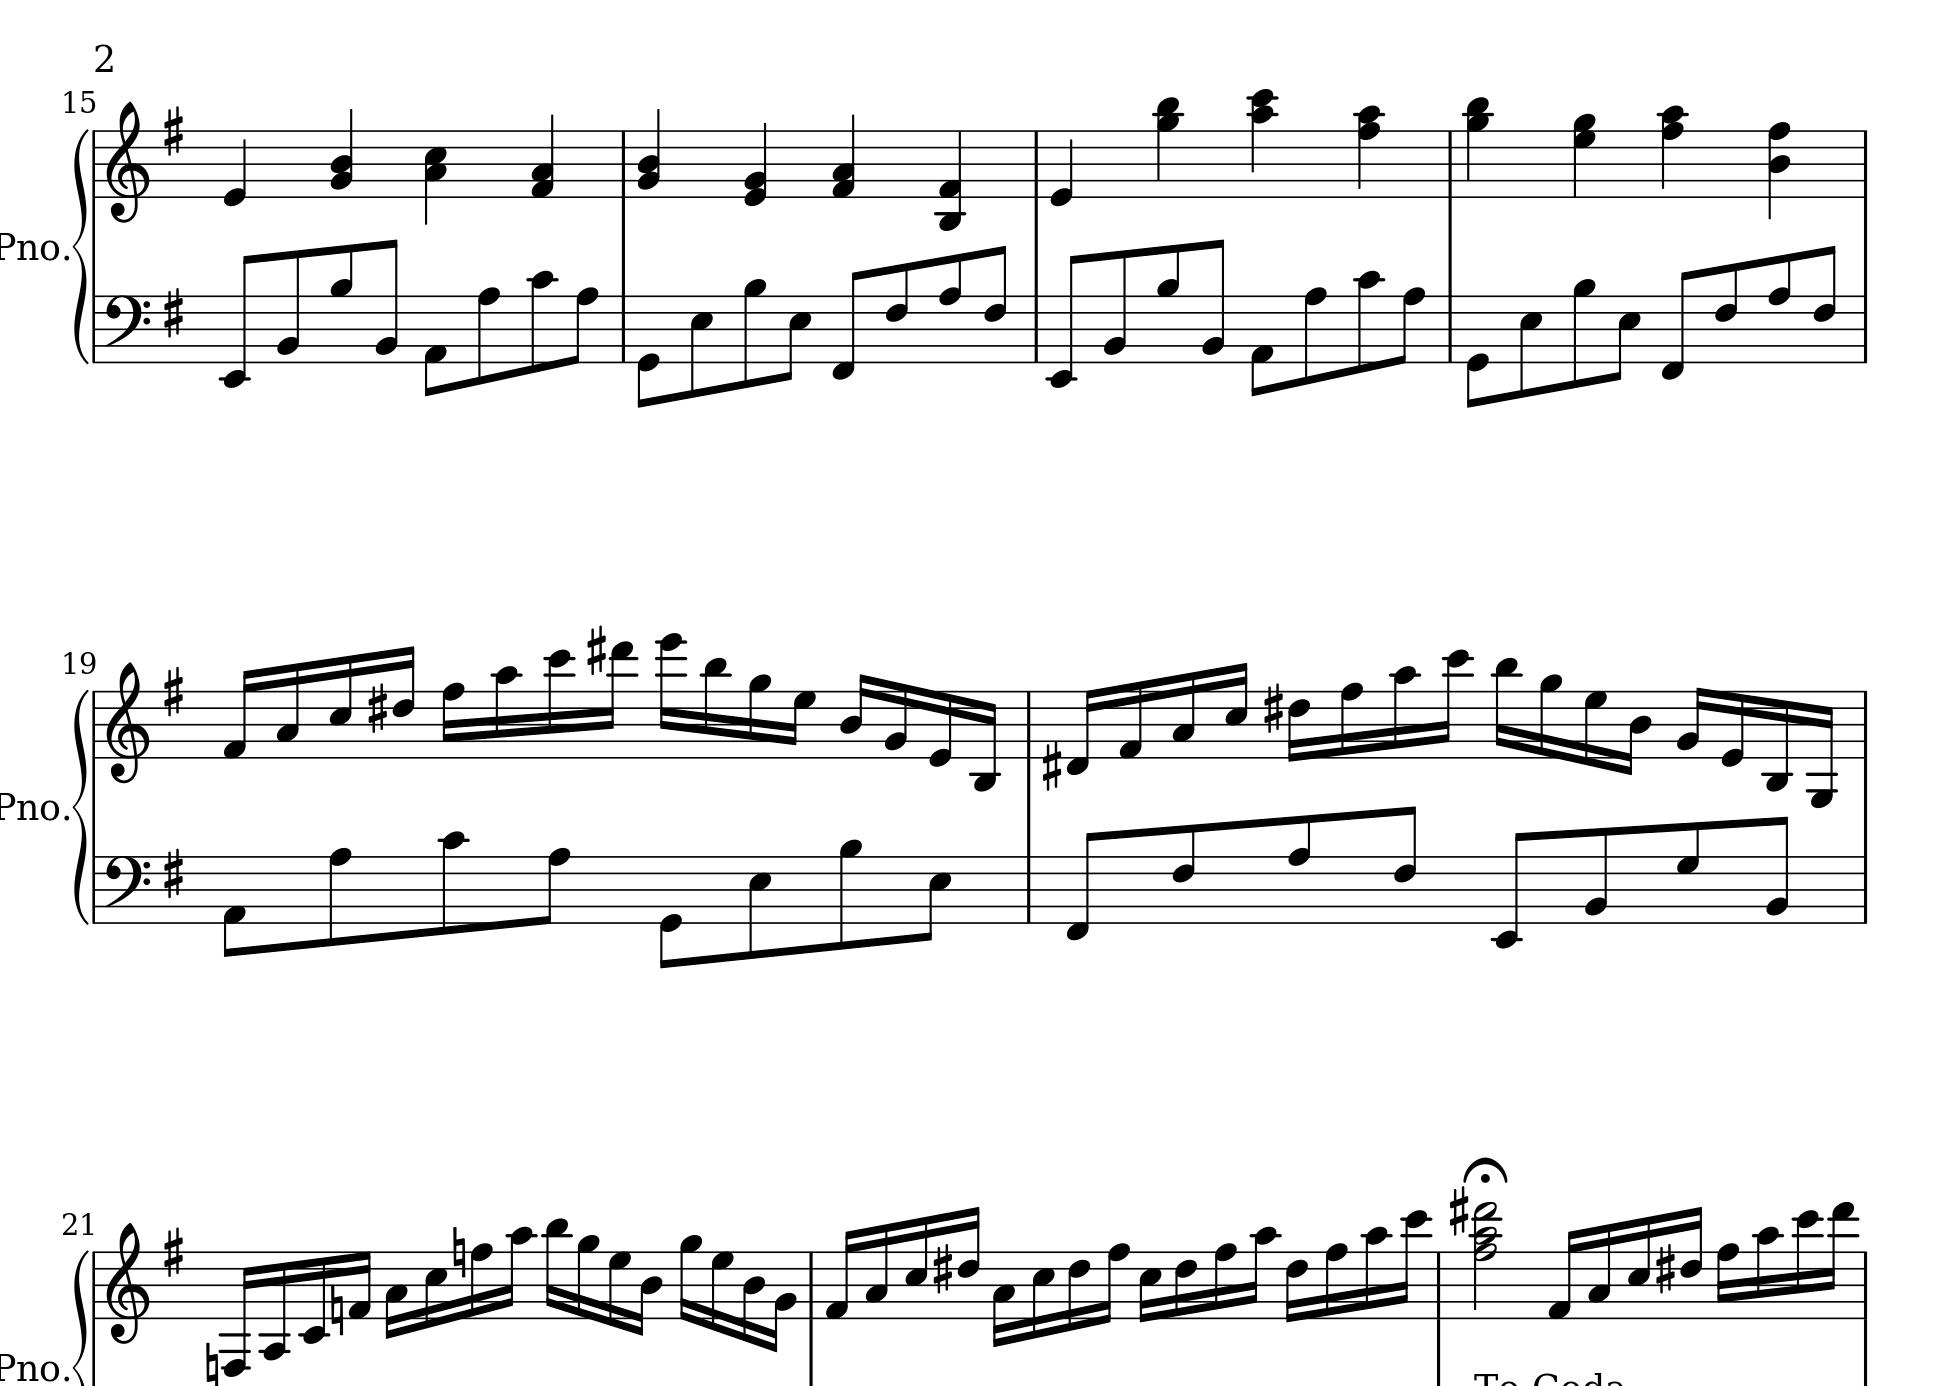1: (61, 648, 76, 676), (79, 1209, 94, 1237), (61, 88, 76, 115)
16_-1: (1066, 687, 1099, 777)
16_-2: (300, 1248, 327, 1347)
16_-3: (1807, 690, 1837, 808), (1764, 688, 1794, 793), (970, 688, 999, 793)
16_-4: (220, 1246, 256, 1377), (259, 1248, 289, 1362)
16_0: (925, 688, 955, 769), (1719, 688, 1746, 768)
16_1: (220, 666, 256, 760), (1545, 1227, 1581, 1321), (823, 1228, 856, 1320), (1117, 679, 1144, 760), (346, 1248, 373, 1321)
16_10: (501, 1225, 535, 1321), (1246, 1225, 1281, 1321), (490, 664, 520, 760), (1390, 664, 1420, 760), (1755, 1224, 1782, 1321), (1363, 1224, 1389, 1321)
16_11: (1491, 655, 1521, 760), (543, 1215, 570, 1321), (700, 655, 727, 760)
16_12: (1435, 648, 1473, 760), (1396, 1209, 1429, 1320), (544, 646, 574, 760), (1794, 1207, 1821, 1321)
16_13: (601, 637, 637, 760), (1824, 1201, 1857, 1318)
16_14: (655, 631, 685, 760)
16_2: (768, 1249, 796, 1351), (1675, 684, 1707, 759), (883, 679, 909, 759)
16_3: (274, 660, 301, 759), (862, 1222, 889, 1318), (1587, 1221, 1612, 1321), (1170, 670, 1197, 759), (991, 1249, 1015, 1348), (382, 1249, 408, 1339)
16_4: (838, 672, 870, 759), (1623, 688, 1653, 775), (634, 1249, 663, 1336), (741, 1249, 766, 1345)
16_5: (328, 652, 354, 760), (903, 1213, 928, 1321), (1626, 1213, 1651, 1321), (1224, 660, 1251, 760), (1030, 1248, 1056, 1339), (423, 1249, 448, 1329), (1137, 1249, 1162, 1323)
16_6: (391, 643, 417, 760), (957, 1204, 982, 1321), (1680, 1206, 1704, 1320), (1066, 1248, 1092, 1330), (1284, 1249, 1309, 1323), (1287, 688, 1311, 763), (1173, 1249, 1198, 1320)
16_7: (784, 687, 817, 759), (1582, 688, 1608, 771), (709, 1248, 733, 1335), (606, 1249, 631, 1330)
16_8: (1098, 1242, 1131, 1324), (439, 679, 466, 760), (1338, 681, 1365, 760), (1212, 1240, 1237, 1321), (1323, 1240, 1348, 1320), (469, 1240, 493, 1321), (1716, 1240, 1740, 1320)
16_9: (1537, 670, 1563, 760), (678, 1231, 702, 1324), (745, 672, 771, 759), (574, 1233, 598, 1321)
2: (91, 40, 115, 73), (60, 1210, 79, 1237)
2_th: (1471, 1195, 1501, 1318)
4_-3_1: (934, 129, 966, 232)
4_0: (222, 127, 247, 208), (1050, 127, 1075, 205)
4_0_2: (742, 121, 769, 208)
4_12_14: (1248, 87, 1279, 198)
4_1_3: (529, 112, 556, 199), (831, 114, 858, 201)
4_2_4: (634, 108, 660, 199), (328, 106, 352, 199)
4_3_5: (423, 130, 448, 229)
4_4_8: (1767, 121, 1792, 220)
4_7_9: (1573, 112, 1600, 201)
4_8_10: (1657, 103, 1692, 198), (1353, 103, 1386, 199)
4_9_11: (1152, 96, 1185, 199), (1462, 96, 1494, 198)
5: (79, 87, 96, 114)
8_-1: (1062, 829, 1101, 942), (829, 268, 865, 382), (1659, 268, 1695, 382)
8_-2: (217, 253, 259, 390), (1047, 252, 1084, 391), (1491, 829, 1533, 949)
8_0: (634, 292, 661, 409), (1464, 292, 1491, 409), (658, 853, 682, 969)
8_1: (421, 292, 448, 397), (1248, 292, 1275, 397), (220, 853, 247, 958)
8_10: (438, 829, 469, 936), (528, 268, 556, 375), (1356, 268, 1381, 376)
8_2: (1200, 238, 1227, 366), (373, 238, 400, 364), (1101, 247, 1129, 364), (274, 247, 301, 366), (1764, 814, 1791, 925), (1582, 826, 1611, 925)
8_5: (919, 853, 952, 943), (745, 853, 772, 961), (688, 292, 714, 400), (1518, 292, 1543, 400), (781, 292, 811, 382), (1611, 292, 1641, 382)
8_6: (1812, 241, 1839, 366), (1392, 802, 1419, 927), (982, 243, 1009, 364), (1713, 259, 1740, 366), (883, 259, 910, 364), (1170, 822, 1197, 925)
8_7: (1674, 819, 1701, 924)
8_8: (1767, 250, 1794, 364), (1287, 811, 1314, 925), (535, 844, 571, 925), (937, 250, 963, 364), (325, 844, 352, 948), (565, 285, 598, 367), (1392, 285, 1425, 367), (475, 285, 501, 387), (1302, 285, 1327, 387)
8_9: (327, 243, 355, 364), (1155, 241, 1182, 364), (837, 835, 862, 952), (741, 276, 766, 391), (1570, 274, 1596, 390)
9: (79, 646, 96, 675)
Brace: (70, 124, 90, 364), (70, 688, 90, 922)
Fclef: (102, 292, 151, 364), (102, 853, 151, 925)
Fermata_above: (1462, 1155, 1509, 1186)
Gclef: (103, 99, 151, 223), (103, 660, 151, 784), (103, 1221, 151, 1345)
Natural: (328, 1284, 345, 1338), (202, 1339, 220, 1386), (451, 1225, 466, 1279)
Pno: (1, 228, 60, 267), (1, 789, 60, 826), (1, 1348, 61, 1384)
Sharp: (160, 285, 187, 340), (160, 664, 187, 720), (160, 1225, 187, 1281), (160, 103, 186, 160), (160, 846, 186, 901), (1261, 679, 1285, 735), (366, 679, 388, 735), (585, 622, 607, 676), (931, 1240, 954, 1294), (1656, 1240, 1677, 1294), (1041, 739, 1062, 792), (1449, 1185, 1470, 1236)
Single_barline: (1029, 130, 1047, 196), (1443, 130, 1461, 196), (1855, 294, 1872, 363), (615, 130, 631, 198), (1020, 690, 1036, 757), (1431, 1251, 1447, 1318), (615, 295, 631, 361), (1029, 295, 1045, 361), (1021, 856, 1038, 922), (1857, 856, 1873, 922), (1857, 690, 1872, 759), (1858, 1249, 1873, 1318), (1857, 129, 1872, 196), (1443, 294, 1458, 361), (88, 1251, 103, 1318), (804, 1251, 819, 1318), (88, 690, 102, 757), (88, 130, 102, 196), (88, 295, 102, 361), (88, 856, 102, 921)
